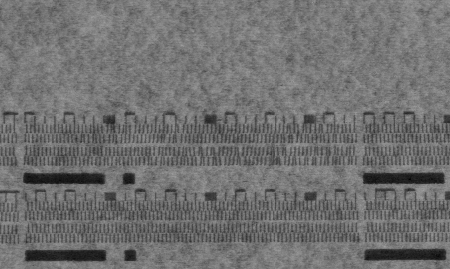Oblique printing: (88, 120, 361, 171)
